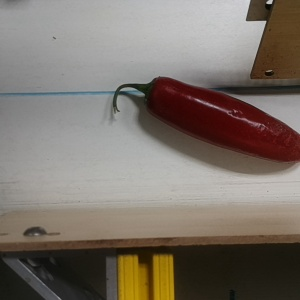Cut Point: (137, 74, 173, 114)
